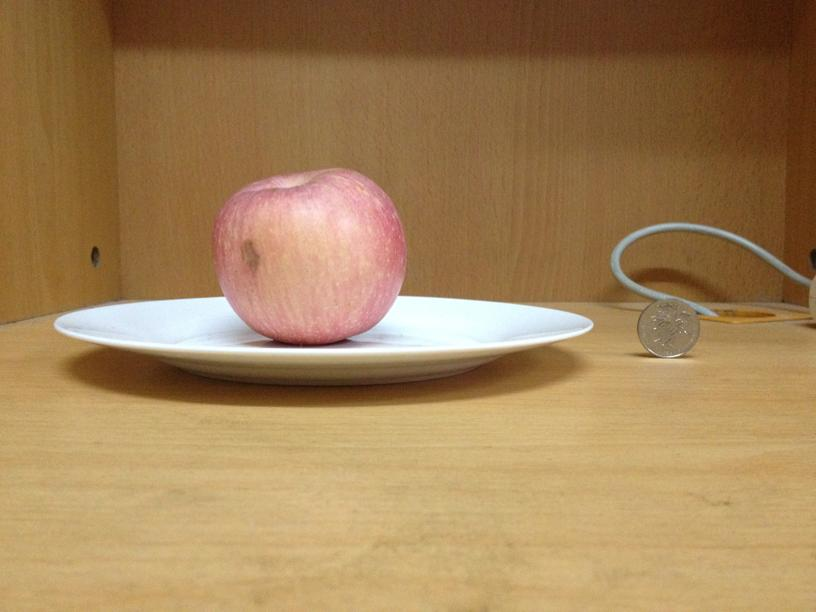apple: (215, 167, 408, 344)
coin: (636, 296, 699, 358)
